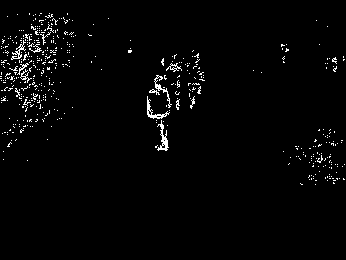person: (146, 72, 172, 149), (164, 51, 185, 112), (184, 48, 204, 111)
